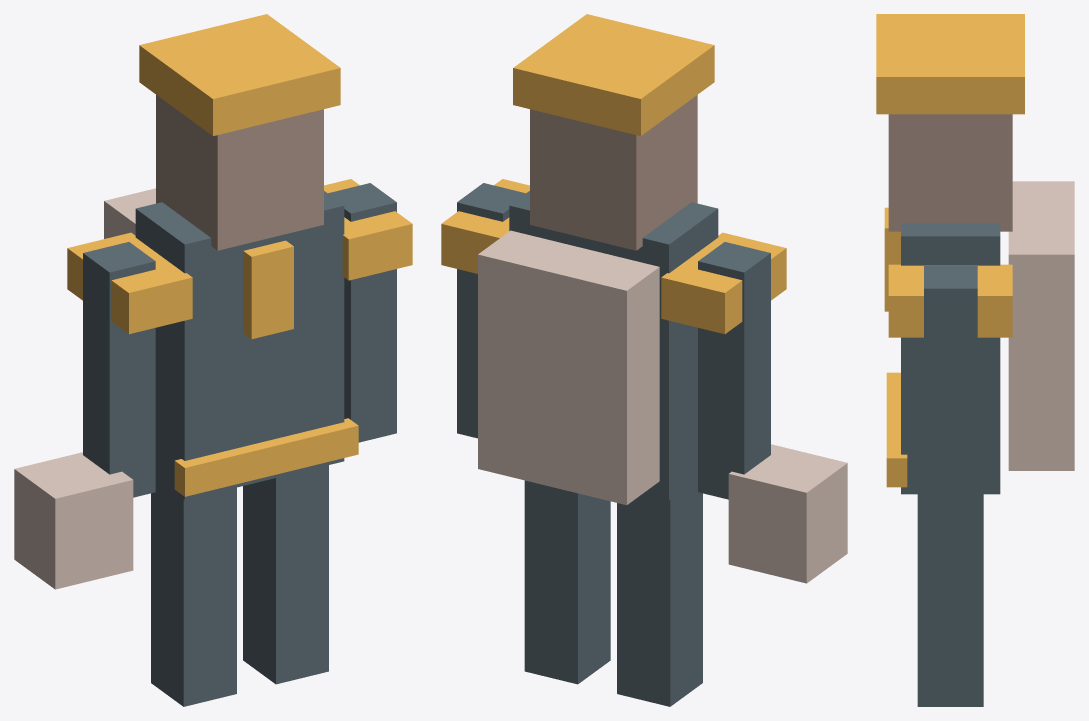
Rendered from 19_nyra_chromabell_watcher_under_observation.glb.
3 views of the same model, side by side, from view 1: azimuth 30°, elevation 25°; view 2: azimuth 150°, elevation 25°; view 3: azimuth 270°, elevation 25° (orthographic).
Visible parts, largest first — view 1: Nyra Chromabell, Watcher under Observation; view 2: Nyra Chromabell, Watcher under Observation; view 3: Nyra Chromabell, Watcher under Observation.
Boxes of the visible parts, x1,y1,x2,y2 form: Nyra Chromabell, Watcher under Observation: [14, 14, 412, 706]; Nyra Chromabell, Watcher under Observation: [441, 14, 847, 706]; Nyra Chromabell, Watcher under Observation: [876, 14, 1074, 706].
Bounding box in the file's own units: 0.9257 × 1.56 × 0.4466.
